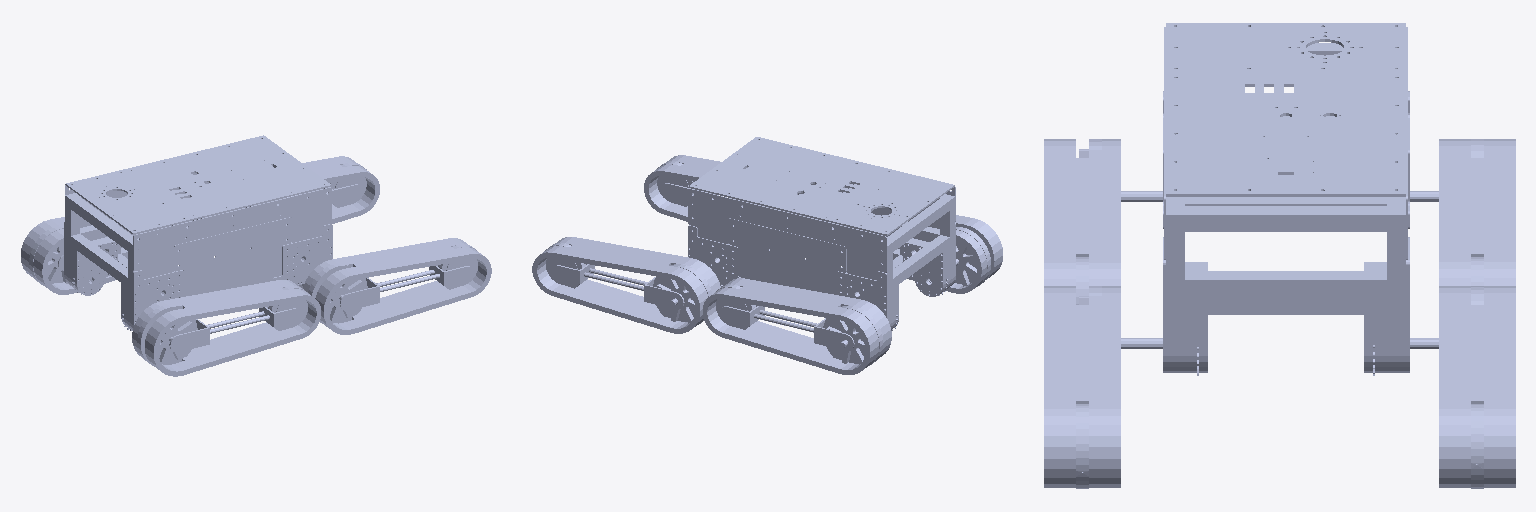
URDF robot description (scorpion_2):
<?xml version="1.0" encoding="utf-8"?>
<robot
  name="scorpion_2">
  <link
    name="base_link">
    <inertial>
      <origin
        xyz="0.0278331393854261 0.0137863605734812 0.109914410148553"
        rpy="0 0 0" />
      <mass
        value="6" />    
      <inertia
        ixx="0.426328345311672"
        ixy="-0.0327350946021298"
        ixz="-0.0417505536650965"
        iyy="0.712774732106428"
        iyz="-0.0205283697130115"
        izz="0.930257549786127" />
    </inertial>
    <visual>
      <origin
        xyz="0 0 0"
        rpy="0 0 0" />
      <geometry>
        <mesh
          filename="package://scorpion_2/meshes/base_link.STL" />
      </geometry>
      <material
        name="">
        <color
          rgba="0.792156862745098 0.819607843137255 0.933333333333333 1" />
      </material>
    </visual>
    <collision>
      <origin
        xyz="0 0 0"
        rpy="0 0 0" />
      <geometry>
        <mesh
          filename="package://scorpion_2/meshes/base_link.STL" />
      </geometry>
    </collision>
  </link>
  <link
    name="r_f_d">
    <inertial>
      <origin
        xyz="-5.55111512312578E-17 -0.153185137732946 -1.38777878078145E-17"
        rpy="0 0 0" />
      <mass
        value="0.801747641535325" />
      <inertia
        ixx="0.00210844915709914"
        ixy="-3.65558659861417E-19"
        ixz="9.22060005958708E-19"
        iyy="0.00251842148758314"
        iyz="8.43116593519986E-19"
        izz="0.00210844915709914" />
    </inertial>
    <visual>
      <origin
        xyz="0 0 0"
        rpy="0 0 0" />
      <geometry>
        <mesh
          filename="package://scorpion_2/meshes/r_f_d.STL" />
      </geometry>
      <material
        name="">
        <color
          rgba="0.792156862745098 0.819607843137255 0.933333333333333 1" />
      </material>
    </visual>
    <collision>
      <origin
        xyz="0 0 0"
        rpy="0 0 0" />
      <geometry>
        <mesh
          filename="package://scorpion_2/meshes/r_f_d.STL" />
      </geometry>
    </collision>
  </link>
  <joint
    name="j_r_f_d"
    type="continuous">
    <origin
      xyz="0.2675 -0.134 -0.01"
      rpy="0 0 0" />
    <parent
      link="base_link" />
    <child
      link="r_f_d" />
    <axis
      xyz="0 1 0" />
  </joint>
  <link
    name="r_b_d">
    <inertial>
      <origin
        xyz="-5.55111512312578E-17 -0.153185137732946 -2.77555756156289E-17"
        rpy="0 0 0" />
      <mass
        value="0.801747641535325" />
      <inertia
        ixx="0.00210844915709914"
        ixy="-2.21161554299214E-19"
        ixz="3.26220161869166E-19"
        iyy="0.00251842148758314"
        iyz="1.13508093658607E-18"
        izz="0.00210844915709915" />
    </inertial>
    <visual>
      <origin
        xyz="0 0 0"
        rpy="0 0 0" />
      <geometry>
        <mesh
          filename="package://scorpion_2/meshes/r_b_d.STL" />
      </geometry>
      <material
        name="">
        <color
          rgba="0.792156862745098 0.819607843137255 0.933333333333333 1" />
      </material>
    </visual>
    <collision>
      <origin
        xyz="0 0 0"
        rpy="0 0 0" />
      <geometry>
        <mesh
          filename="package://scorpion_2/meshes/r_b_d.STL" />
      </geometry>
    </collision>
  </link>
  <joint
    name="j_r_b_d"
    type="continuous">
    <origin
      xyz="-0.2675 -0.134 -0.0100000000000001"
      rpy="0 0 0" />
    <parent
      link="base_link" />
    <child
      link="r_b_d" />
    <axis
      xyz="0 1 0" />
  </joint>
  <link
    name="l_f_d">
    <inertial>
      <origin
        xyz="2.77555756156289E-16 0.153185137732947 -1.38777878078145E-17"
        rpy="0 0 0" />
      <mass
        value="0.801747641535325" />
      <inertia
        ixx="0.00210844915709914"
        ixy="1.22851800923576E-18"
        ixz="1.36696806492895E-18"
        iyy="0.00251842148758314"
        iyz="-4.09316414792287E-19"
        izz="0.00210844915709914" />
    </inertial>
    <visual>
      <origin
        xyz="0 0 0"
        rpy="0 0 0" />
      <geometry>
        <mesh
          filename="package://scorpion_2/meshes/l_f_d.STL" />
      </geometry>
      <material
        name="">
        <color
          rgba="0.792156862745098 0.819607843137255 0.933333333333333 1" />
      </material>
    </visual>
    <collision>
      <origin
        xyz="0 0 0"
        rpy="0 0 0" />
      <geometry>
        <mesh
          filename="package://scorpion_2/meshes/l_f_d.STL" />
      </geometry>
    </collision>
  </link>
  <joint
    name="j_l_f_d"
    type="continuous">
    <origin
      xyz="0.2675 0.134 -0.00999999999999994"
      rpy="0 0 0" />
    <parent
      link="base_link" />
    <child
      link="l_f_d" />
    <axis
      xyz="0 1 0" />
  </joint>
  <link
    name="l_b_d">
    <inertial>
      <origin
        xyz="0 0.153185137732946 1.38777878078145E-17"
        rpy="0 0 0" />
      <mass
        value="0.801747641535327" />
      <inertia
        ixx="0.00210844915709915"
        ixy="-8.20527215478887E-19"
        ixz="2.34538015401461E-19"
        iyy="0.00251842148758315"
        iyz="6.44346912370667E-19"
        izz="0.00210844915709915" />
    </inertial>
    <visual>
      <origin
        xyz="0 0 0"
        rpy="0 0 0" />
      <geometry>
        <mesh
          filename="package://scorpion_2/meshes/l_b_d.STL" />
      </geometry>
      <material
        name="">
        <color
          rgba="0.792156862745098 0.819607843137255 0.933333333333333 1" />
      </material>
    </visual>
    <collision>
      <origin
        xyz="0 0 0"
        rpy="0 0 0" />
      <geometry>
        <mesh
          filename="package://scorpion_2/meshes/l_b_d.STL" />
      </geometry>
    </collision>
  </link>
  <joint
    name="j_l_b_d"
    type="continuous">
    <origin
      xyz="-0.2675 0.134 -0.0100000000000004"
      rpy="0 0 0" />
    <parent
      link="base_link" />
    <child
      link="l_b_d" />
    <axis
      xyz="0 1 0" />
  </joint>
  <link
    name="l_f_f">
    <inertial>
      <origin
        xyz="0.198599122041313 0.0589999999860946 0.00028020286083387"
        rpy="0 0 0" />
      <mass
        value="2.40960845389308" />
      <inertia
        ixx="0.0109096547992514"
        ixy="6.13379525363846E-12"
        ixz="-0.000101176174013822"
        iyy="0.0714202276655594"
        iyz="-1.72599739591332E-12"
        izz="0.0657180246186772" />
    </inertial>
    <visual>
      <origin
        xyz="0 0 0"
        rpy="0 0 0" />
      <geometry>
        <mesh
          filename="package://scorpion_2/meshes/l_f_f.STL" />
      </geometry>
      <material
        name="">
        <color
          rgba="0.792156862745098 0.819607843137255 0.933333333333333 1" />
      </material>
    </visual>
    <collision>
      <origin
        xyz="0 0 0"
        rpy="0 0 0" />
      <geometry>
        <mesh
          filename="package://scorpion_2/meshes/l_f_f.STL" />
      </geometry>
    </collision>
  </link>
  <joint
    name="j_l_f_f"
    type="continuous">
    <origin
      xyz="0.267500000000001 0.234999999999999 -0.00999999999999988"
      rpy="0 0 0" />
    <parent
      link="base_link" />
    <child
      link="l_f_f" />
    <axis
      xyz="0 1 0" />
  </joint>
  <link
    name="l_b_f">
    <inertial>
      <origin
        xyz="0.198600102175386 0.0589999999860983 0.000198675702895543"
        rpy="0 0 0" />
      <mass
        value="2.40960845389308" />
      <inertia
        ixx="0.010909568774612"
        ixy="5.90484102206242E-12"
        ixz="-7.85930666941592E-05"
        iyy="0.0714209773304488"
        iyz="-1.74293856589482E-12"
        izz="0.0657188603082062" />
    </inertial>
    <visual>
      <origin
        xyz="0 0 0"
        rpy="0 0 0" />
      <geometry>
        <mesh
          filename="package://scorpion_2/meshes/l_b_f.STL" />
      </geometry>
      <material
        name="">
        <color
          rgba="0.792156862745098 0.819607843137255 0.933333333333333 1" />
      </material>
    </visual>
    <collision>
      <origin
        xyz="0 0 0"
        rpy="0 0 0" />
      <geometry>
        <mesh
          filename="package://scorpion_2/meshes/l_b_f.STL" />
      </geometry>
    </collision>
  </link>
  <joint
    name="j_l_b_f"
    type="continuous">
    <origin
      xyz="-0.267499999999999 0.234999999999999 -0.00999999999999938"
      rpy="0 0 0" />
    <parent
      link="base_link" />
    <child
      link="l_b_f" />
    <axis
      xyz="0 1 0" />
  </joint>
  <link
    name="r_f_f">
    <inertial>
      <origin
        xyz="0.198593445237832 -0.040000000013902 0.000250030318182021"
        rpy="0 0 0" />
      <mass
        value="2.40960845389308" />
      <inertia
        ixx="0.0109102942040705"
        ixy="7.61589591319277E-12"
        ixz="-9.21243932338846E-05"
        iyy="0.0714153671141439"
        iyz="-3.75017821159578E-13"
        izz="0.0657125246624428" />
    </inertial>
    <visual>
      <origin
        xyz="0 0 0"
        rpy="0 0 0" />
      <geometry>
        <mesh
          filename="package://scorpion_2/meshes/r_f_f.STL" />
      </geometry>
      <material
        name="">
        <color
          rgba="0.792156862745098 0.819607843137255 0.933333333333333 1" />
      </material>
    </visual>
    <collision>
      <origin
        xyz="0 0 0"
        rpy="0 0 0" />
      <geometry>
        <mesh
          filename="package://scorpion_2/meshes/r_f_f.STL" />
      </geometry>
    </collision>
  </link>
  <joint
    name="j_r_f_f"
    type="continuous">
    <origin
      xyz="0.2675 -0.254 -0.0100000000000001"
      rpy="0 0 0" />
    <parent
      link="base_link" />
    <child
      link="r_f_f" />
    <axis
      xyz="0 1 0" />
  </joint>
  <link
    name="r_b_f">
    <inertial>
      <origin
        xyz="0.198600172683891 -0.0400000000139019 0.000100710575286808"
        rpy="0 0 0" />
      <mass
        value="2.40960845389308" />
      <inertia
        ixx="0.010909504574335"
        ixy="5.90482691463045E-12"
        ixz="-5.1557154788892E-05"
        iyy="0.0714209744980031"
        iyz="-1.74585323663361E-12"
        izz="0.0657189216760374" />
    </inertial>
    <visual>
      <origin
        xyz="0 0 0"
        rpy="0 0 0" />
      <geometry>
        <mesh
          filename="package://scorpion_2/meshes/r_b_f.STL" />
      </geometry>
      <material
        name="">
        <color
          rgba="0.792156862745098 0.819607843137255 0.933333333333333 1" />
      </material>
    </visual>
    <collision>
      <origin
        xyz="0 0 0"
        rpy="0 0 0" />
      <geometry>
        <mesh
          filename="package://scorpion_2/meshes/r_b_f.STL" />
      </geometry>
    </collision>
  </link>
  <joint
    name="j_r_b_f"
    type="continuous">
    <origin
      xyz="-0.267499999999999 -0.254 -0.0100000000000005"
      rpy="0 0 0" />
    <parent
      link="base_link" />
    <child
      link="r_b_f" />
    <axis
      xyz="0 1 0" />
  </joint>

<joint name="hokuyo_joint" type="fixed">
    <axis xyz="1 0 0" />
    <origin xyz="0.32 -0.08 0.257" rpy="0 0 7.5"/>
    <parent link="base_link"/>
    <child link="hokuyo_link"/>
  </joint>

  <!-- Hokuyo Laser -->
  <link name="hokuyo_link">
    <collision>
      <origin xyz="0 0 0.55" rpy="0 0 0"/>
      <geometry>
    <box size="0.1 0.1 0.1"/>
      </geometry>
    </collision>

    <visual>
      <origin xyz="0 0 0" rpy="0 0 0"/>
      <geometry>
        <mesh filename="package://scorpion_2/meshes/hokuyo.dae"/>
      </geometry>
    </visual>

    <inertial>
      <mass value="1e-5" />
      <origin xyz="0 0 0" rpy="0 0 0"/>
      <inertia ixx="1e-6" ixy="0" ixz="0" iyy="1e-6" iyz="0" izz="1e-6" />
    </inertial>
  </link>

  <!-- hokuyo -->
  <gazebo reference="hokuyo_link">
    <sensor type="ray" name="head_hokuyo_sensor">
      <pose>0 0 0 0 0 0</pose>
      <visualize>true</visualize>
      <update_rate>40</update_rate>
      <ray>
        <scan>
          <horizontal>
            <samples>720</samples>
            <resolution>1</resolution>
            <min_angle>-2.5</min_angle>
            <max_angle>0.35</max_angle>
          </horizontal>
        </scan>
        <range>
          <min>0.10</min>
          <max>30.0</max>
          <resolution>0.01</resolution>
        </range>
        <noise>
          <type>gaussian</type>
          <!-- Noise parameters based on published spec for Hokuyo laser
               achieving "+-30mm" accuracy at range < 10m.  A mean of 0.0m and
               stddev of 0.01m will put 99.7% of samples within 0.03m of the true
               reading. -->
          <mean>0.0</mean>
          <stddev>0.01</stddev>
        </noise>
      </ray>
      <plugin name="gazebo_ros_head_hokuyo_controller" filename="libgazebo_ros_laser.so">
        <topicName>/scan</topicName>
        <frameName>hokuyo_link</frameName>
      </plugin>
    </sensor>
  </gazebo>

<gazebo>
  <plugin name="skid_steer_drive_controller" filename="libgazebo_ros_skid_steer_drive.so">
    <updateRate>100.0</updateRate>
    <robotNamespace>/</robotNamespace>
    <leftFrontJoint>j_l_f_d</leftFrontJoint>
    <rightFrontJoint>j_r_f_d</rightFrontJoint>
    <leftRearJoint>j_l_b_d</leftRearJoint>
    <rightRearJoint>j_r_b_d</rightRearJoint>
    <wheelSeparation>0.41</wheelSeparation>
    <wheelDiameter>0.179</wheelDiameter>
    <robotBaseFrame>base_link</robotBaseFrame>
    <odometryTopic>odom</odometryTopic>
    <odometryFrame>odom</odometryFrame>
    <torque>20</torque>
    <topicName>cmd_vel</topicName>
    <broadcastTF>true</broadcastTF>
    <publishTF>true</publishTF>
  </plugin>
</gazebo>

</robot>

--- Facts derived from the render (not from the file) ---
The picture shows the robot from 3 angles, left to right: view 1: azimuth 30°, elevation 25°; view 2: azimuth 150°, elevation 25°; view 3: azimuth 270°, elevation 25°; orthographic projection.
Robot: scorpion_2 — 10 links, 9 joints (8 continuous, 1 fixed); root link base_link; default pose: all joints at 0.
Visible links, largest first — view 1: base_link, r_b_f, r_f_f, l_f_f, l_b_f, r_b_d, r_f_d, l_b_d; view 2: base_link, l_b_f, l_f_f, r_f_f, r_b_f, l_b_d, l_f_d, r_b_d; view 3: base_link, l_f_f, r_f_f, r_b_f, l_b_f, r_f_d, r_b_d, l_f_d, l_b_d.
Link boxes in pixels (x1,y1,x2,y2): base_link: (64,135,332,330); r_b_f: (132,280,320,376); r_f_f: (303,238,491,334); l_f_f: (286,156,379,224); l_b_f: (21,217,178,294); r_b_d: (122,304,197,365); r_f_d: (308,263,367,323); l_b_d: (29,225,91,295); base_link: (688,137,955,329); l_b_f: (703,278,891,374); l_f_f: (532,237,720,333); r_f_f: (644,155,733,225); r_b_f: (841,215,1002,293); l_b_d: (823,305,898,365); l_f_d: (653,264,712,323); r_b_d: (929,227,990,295); base_link: (1163,23,1409,372); l_f_f: (1439,286,1515,488); r_f_f: (1044,286,1120,488); r_b_f: (1044,139,1120,304); l_b_f: (1439,139,1515,285); r_f_d: (1079,286,1198,375); r_b_d: (1079,139,1162,201); l_f_d: (1373,286,1483,375); l_b_d: (1410,139,1483,201).
Bounding box of the posed robot: 1.07 × 0.725 × 0.3645 m (x, y, z).
Meshes: 10 distinct files referenced, 9 mesh visuals loaded (9 binary STL); not drawn: 1 (reference not matched to a file when rendering).
